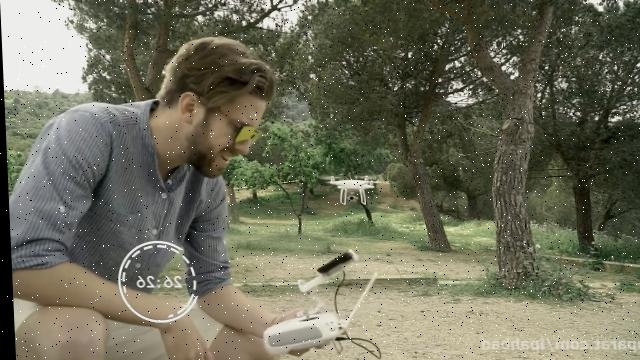drone: (314, 170, 381, 205)
